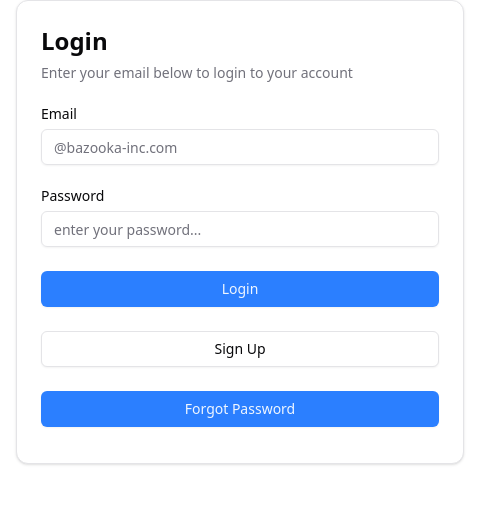
Test: LoginForm - Vulnerability Tests › Form Submission › should display error message on failed login
The width and height of the screenshot is (481, 506).
Type "test@bazooka-inc.com" into the field with placeholder "@bazooka-inc.com" at (240, 147), box top-left (41, 129), bottom-right (439, 165)
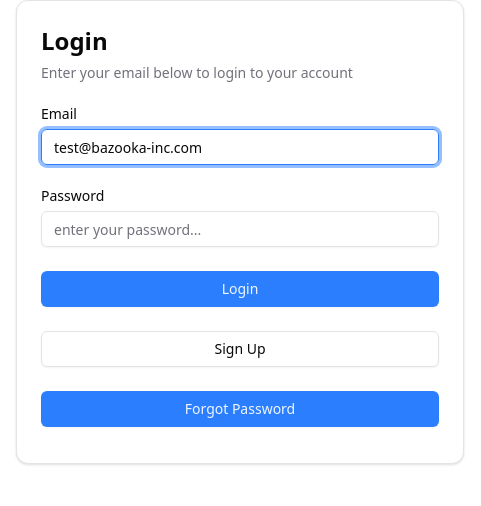
Type "wrongpassword" into the password field with placeholder "enter your password..." at (240, 229), box top-left (41, 211), bottom-right (439, 247)
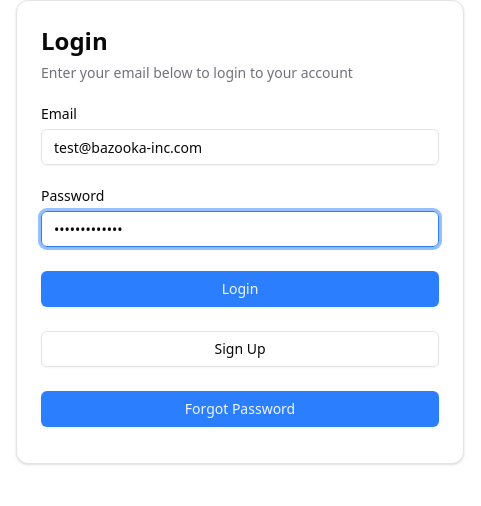
Click the button "Login" at (240, 289), box top-left (41, 271), bottom-right (439, 307)
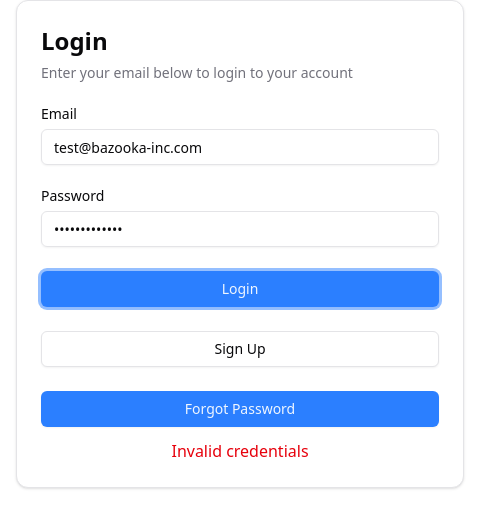
Expected: the text "Invalid credentials" is shown, top-left (172, 440), bottom-right (309, 462)
